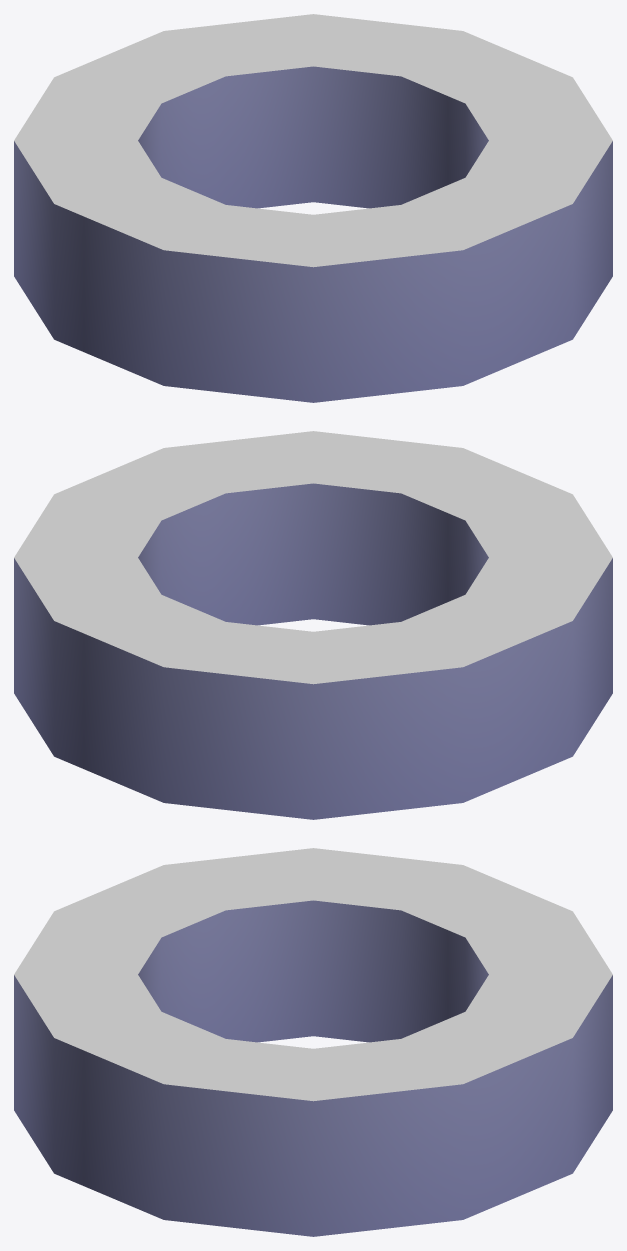
The model's file is shape-ring_0.glb.
The picture shows the model from 3 angles, top to bottom: view 1: azimuth 30°, elevation 25°; view 2: azimuth 150°, elevation 25°; view 3: azimuth 270°, elevation 25°; orthographic projection.
Visible parts, largest first — view 1: shape-ring; view 2: shape-ring; view 3: shape-ring.
Boxes of the visible parts, <box> form: shape-ring: <box>14,14,612,402</box>; shape-ring: <box>14,431,612,819</box>; shape-ring: <box>14,848,612,1236</box>.
Bounding box in the file's own units: 0.25 × 0.0625 × 0.25.
